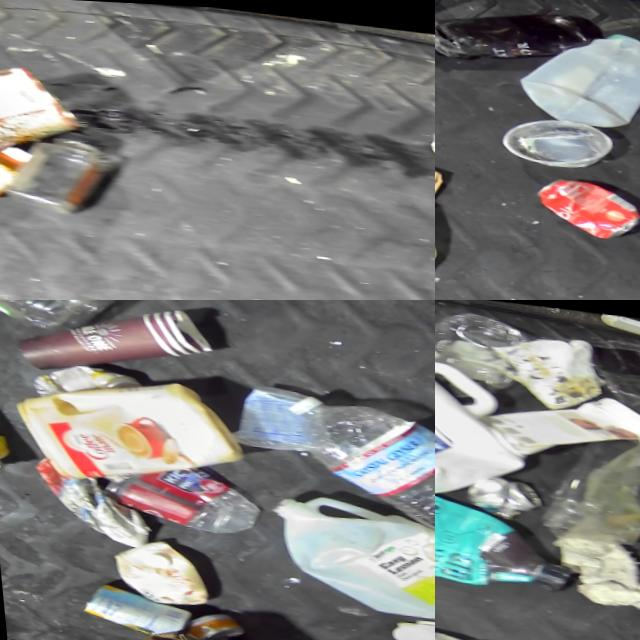can: (0, 46, 90, 167), (519, 165, 638, 236)
milk_jug: (256, 493, 435, 628), (435, 330, 527, 495), (512, 22, 640, 132)
non_white_jug: (0, 365, 224, 501), (435, 477, 566, 586), (68, 579, 181, 639)
plastic_bottle: (271, 386, 435, 541), (0, 300, 107, 321)
